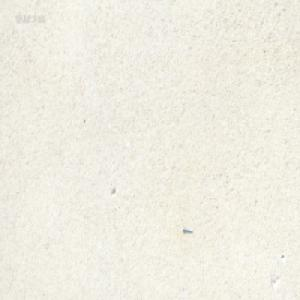Nail: (182, 227, 193, 235)
